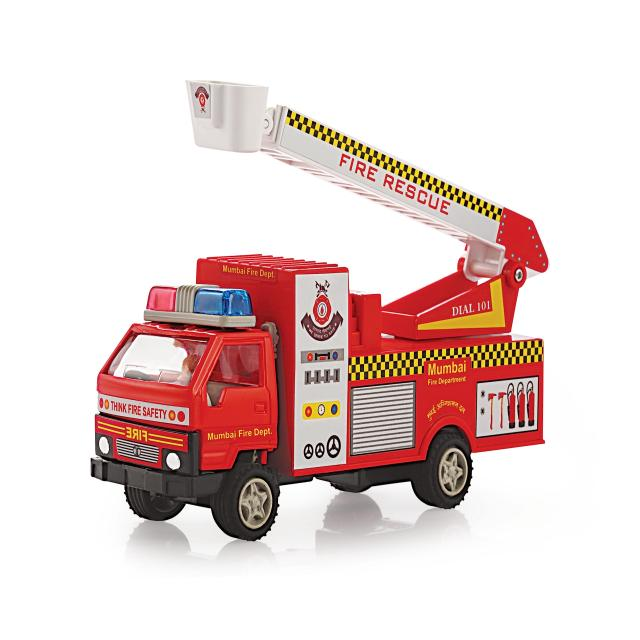emergency: (91, 81, 548, 540)
